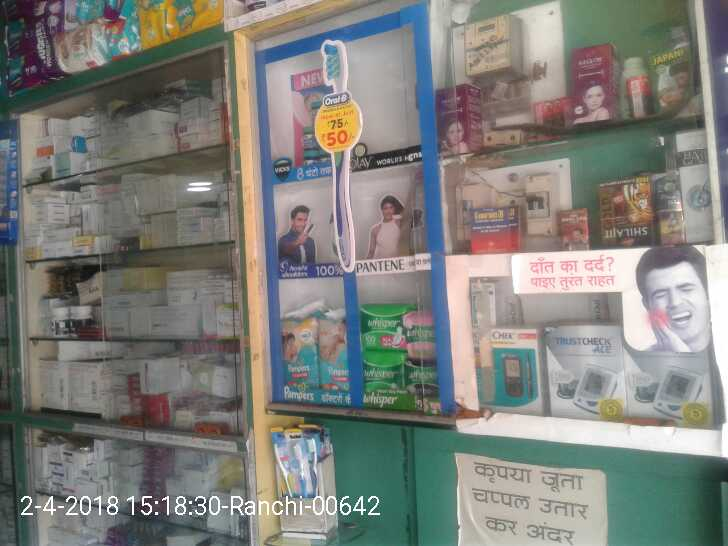oralcare: (291, 427, 308, 501), (309, 427, 323, 501), (277, 427, 291, 501)
vicks: (303, 124, 318, 146), (302, 147, 317, 163)
